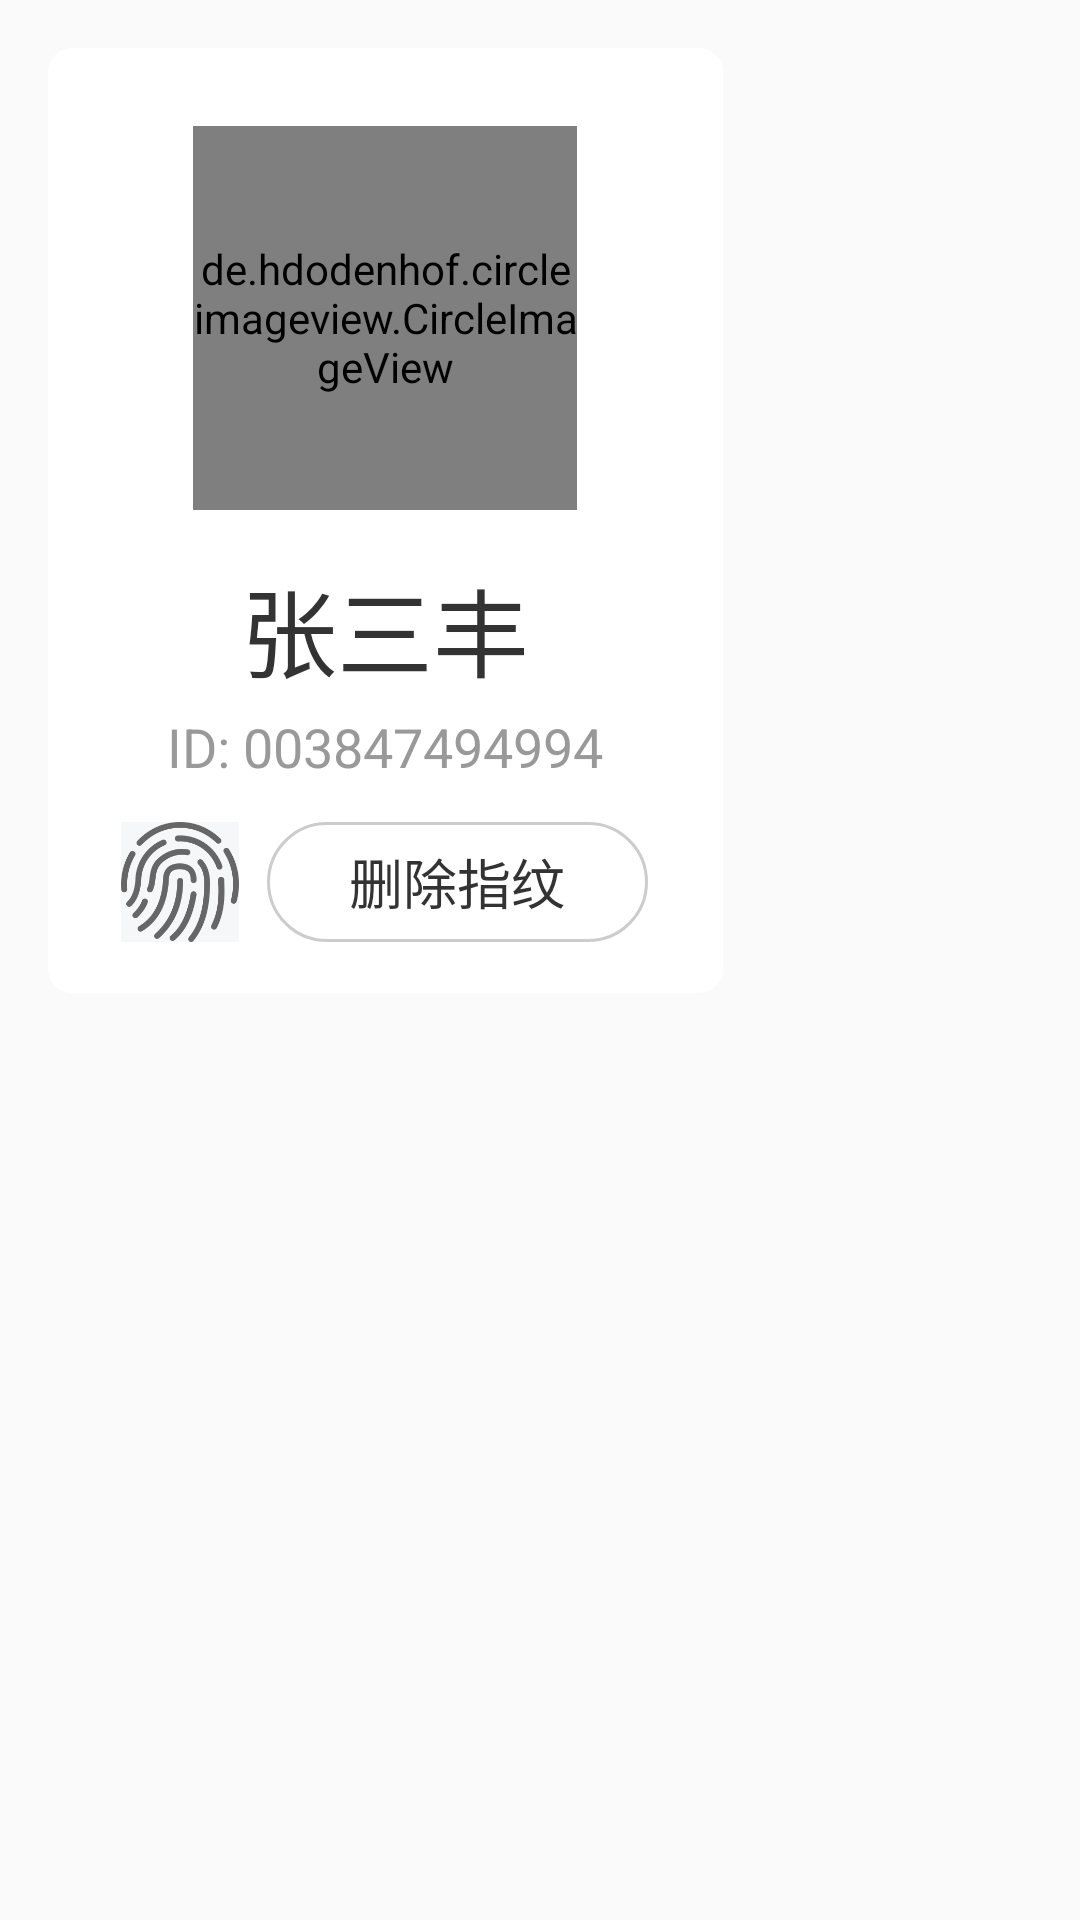

Locate icon controls on the screen. Image size 1080 × 1920, boxes as (x1, y1, x2, y2).
finger null: (121, 822, 239, 942)
